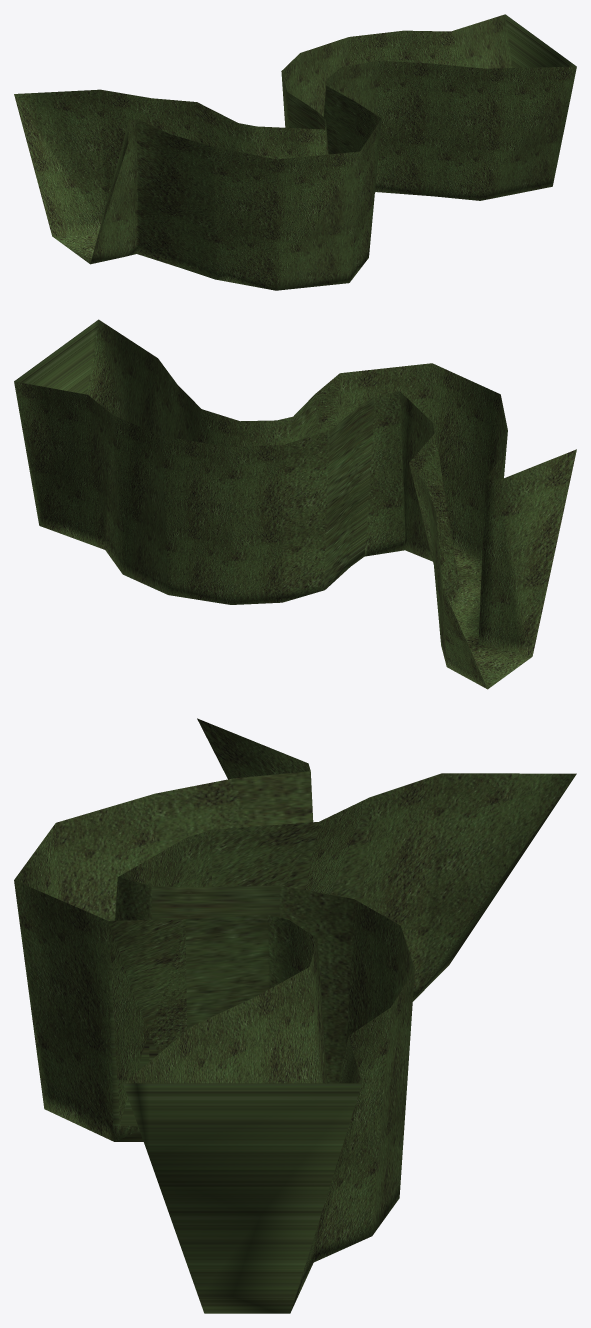
Rendered from ecommons-mesh2.fbx.
The picture shows the model from 3 angles, top to bottom: view 1: azimuth 30°, elevation 25°; view 2: azimuth 150°, elevation 25°; view 3: azimuth 270°, elevation 25°; orthographic projection. The views are drawn at different scales.
Parts seen in each view (by area): view 1: ECToNek; view 2: ECToNek; view 3: ECToNek.
Part boxes in pixels (x1,y1,x2,y2): ECToNek: (14, 14, 576, 290); ECToNek: (14, 319, 576, 689); ECToNek: (14, 718, 576, 1313).
Size of the model in its own units: 648 by 215 by 443.
